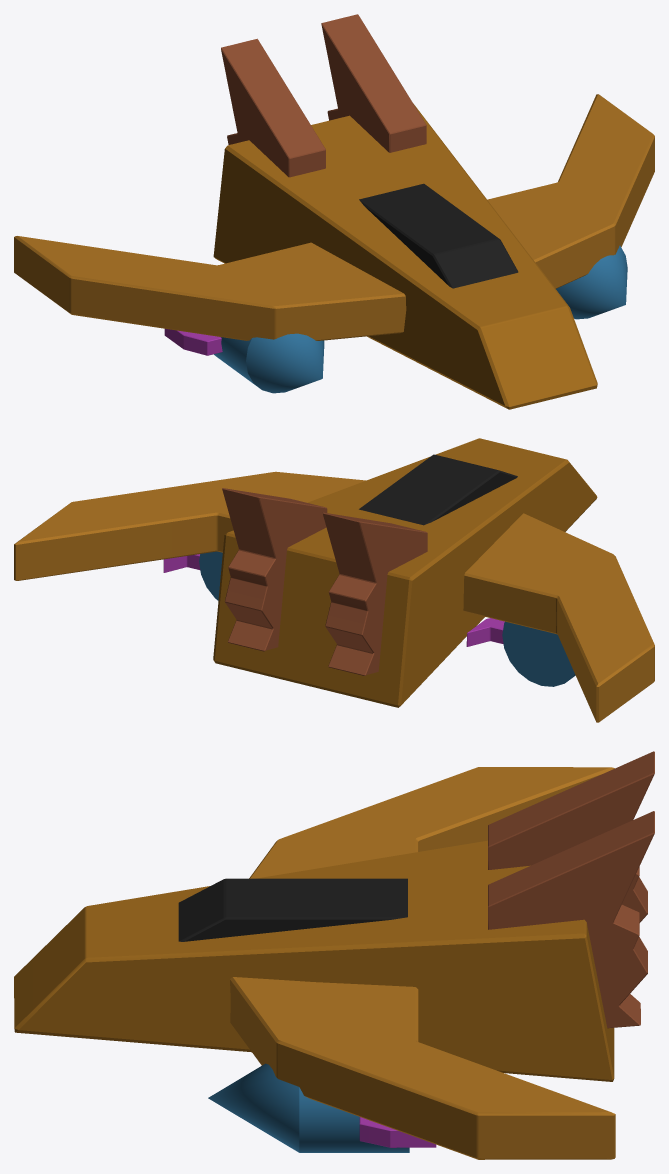
File: ArmEN01.fbx
The picture shows the model from 3 angles, top to bottom: view 1: azimuth 30°, elevation 25°; view 2: azimuth 150°, elevation 25°; view 3: azimuth 270°, elevation 25°; orthographic projection. The views are drawn at different scales.
Parts seen in each view (by area): view 1: main, wing2, wing1, head, pCube4, pCube5, polySurface3, polySurface1; view 2: main, wing2, wing1, pCube5, pCube4, head, polySurface3, polySurface1; view 3: main, wing1, wing2, pCube4, head, pCube5, polySurface1.
Boxes of the visible parts, x1,y1,x2,y2 form: main: [213, 103, 597, 409]; wing2: [14, 236, 406, 340]; wing1: [487, 94, 654, 288]; head: [359, 183, 518, 288]; pCube4: [321, 14, 426, 152]; pCube5: [221, 38, 325, 177]; polySurface3: [164, 328, 324, 393]; polySurface1: [556, 245, 627, 319]; main: [213, 438, 597, 707]; wing2: [463, 513, 654, 722]; wing1: [14, 471, 365, 580]; pCube5: [322, 512, 427, 675]; pCube4: [222, 488, 327, 651]; head: [359, 454, 517, 525]; polySurface3: [466, 618, 575, 686]; polySurface1: [163, 551, 222, 600]; main: [14, 840, 614, 1081]; wing1: [230, 977, 615, 1159]; wing2: [249, 767, 614, 878]; pCube4: [488, 811, 654, 1028]; head: [178, 878, 407, 941]; pCube5: [488, 751, 654, 922]; polySurface1: [208, 1063, 436, 1152].
Bounding box in the file's own units: 2.25 × 0.8037 × 1.76.
